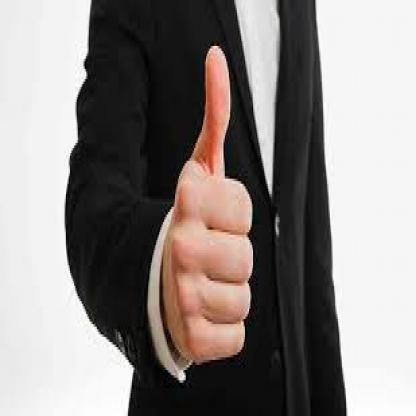thumb_up: (164, 41, 254, 362)
